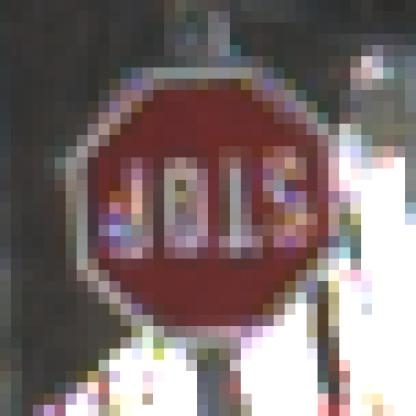stop: (63, 53, 348, 336)
